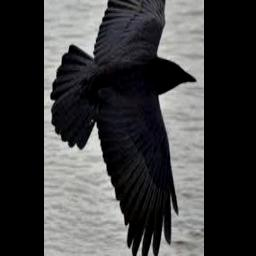Crow: (50, 0, 196, 256)
